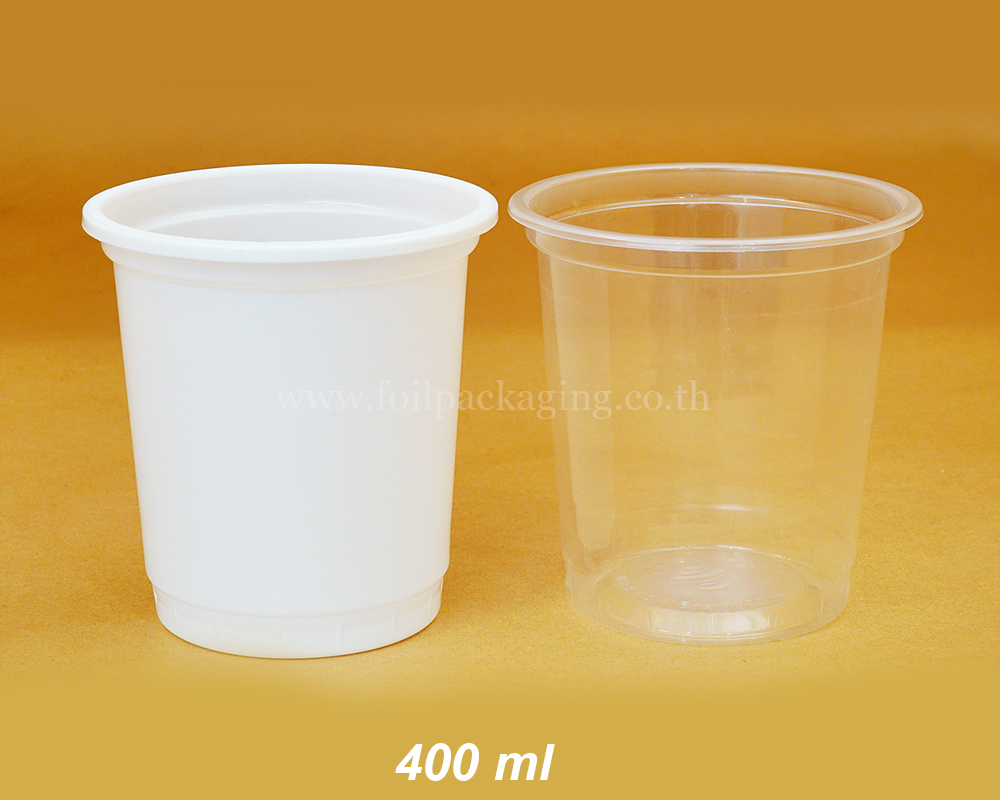plastic_glass: (77, 157, 504, 670), (503, 160, 932, 653)
